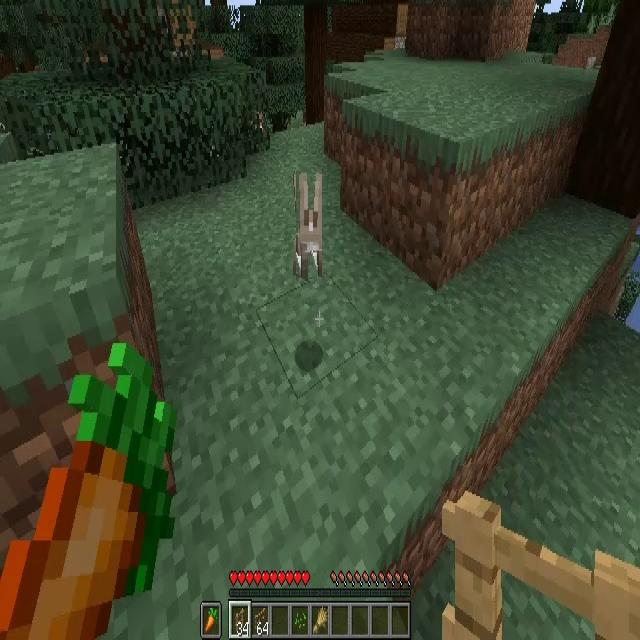rabbit: (296, 171, 322, 281)
